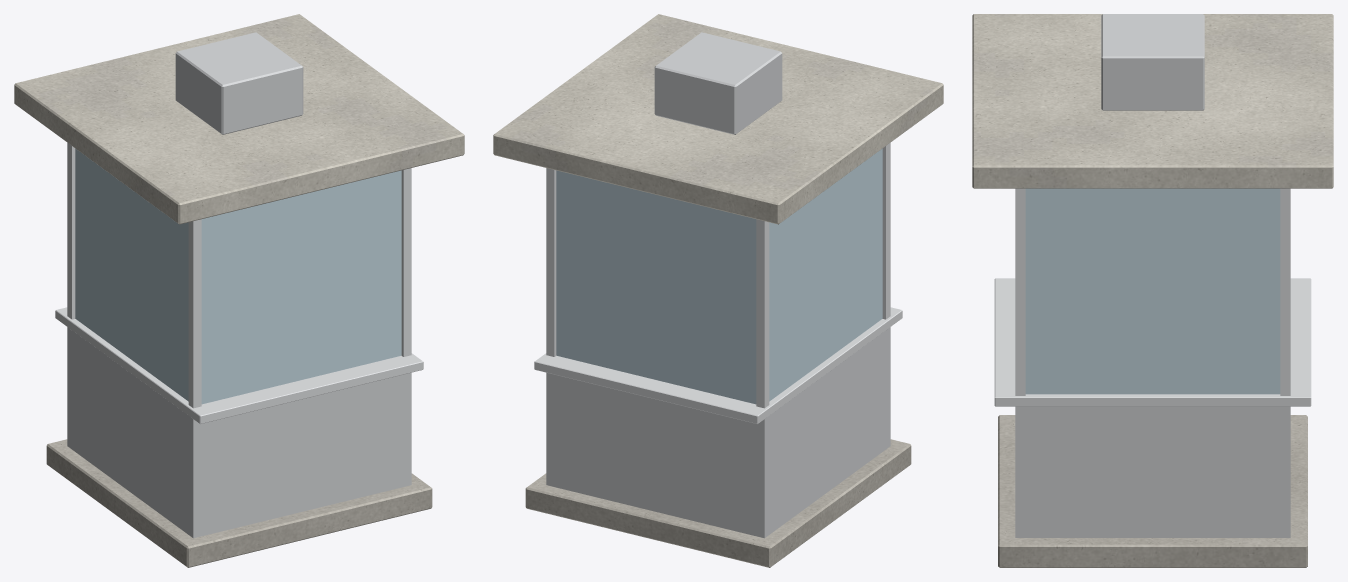
The model's file is booth.glb.
The picture shows the model from 3 angles, left to right: view 1: azimuth 30°, elevation 25°; view 2: azimuth 150°, elevation 25°; view 3: azimuth 270°, elevation 25°; orthographic projection. The views are drawn at different scales.
Visible parts, largest first — view 1: booth_glass, booth_metal, booth_coping, booth_alu, booth_concrete; view 2: booth_glass, booth_metal, booth_coping, booth_alu, booth_concrete; view 3: booth_coping, booth_glass, booth_metal, booth_concrete, booth_alu.
Part boxes in pixels (box(x1,y1,x2,y2)): booth_glass: box(75, 148, 401, 404); booth_metal: box(67, 32, 411, 538); booth_coping: box(14, 14, 464, 224); booth_alu: box(55, 143, 423, 423); booth_concrete: box(46, 439, 432, 567); booth_glass: box(556, 148, 882, 404); booth_metal: box(546, 32, 890, 538); booth_coping: box(493, 14, 943, 224); booth_alu: box(534, 143, 902, 423); booth_concrete: box(525, 439, 911, 567); booth_coping: box(972, 14, 1333, 188); booth_glass: box(1025, 188, 1280, 394); booth_metal: box(1015, 14, 1290, 537); booth_concrete: box(998, 415, 1307, 567); booth_alu: box(994, 188, 1311, 406).
Bounding box in the file's own units: 2.1 × 3 × 2.1.
6 materials, 2 textured.
